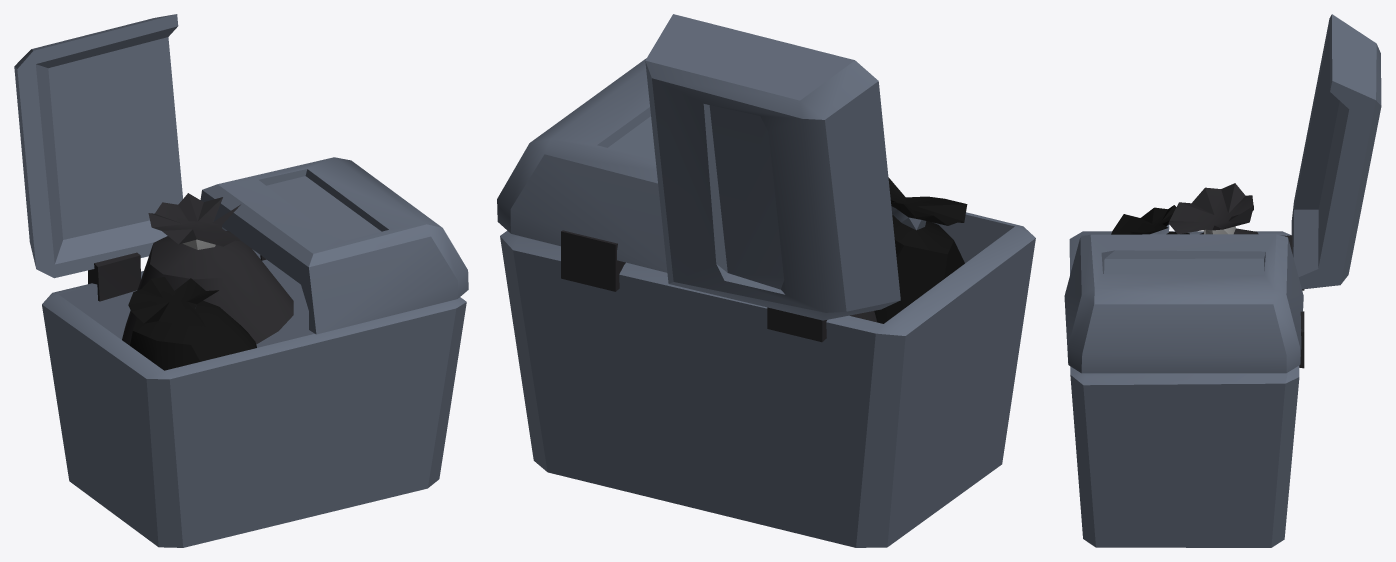
The model's file is Trash Box 1.fbx.
3 views of the same model, side by side, from view 1: azimuth 30°, elevation 25°; view 2: azimuth 150°, elevation 25°; view 3: azimuth 270°, elevation 25° (orthographic). The views are drawn at different scales.
Parts seen in each view (by area): view 1: Trash_Box_01; view 2: Trash_Box_01; view 3: Trash_Box_01.
Part boxes in pixels (bbox=[...]): Trash_Box_01: bbox=[14, 14, 468, 547]; Trash_Box_01: bbox=[497, 14, 1035, 547]; Trash_Box_01: bbox=[1064, 14, 1381, 547].
Bounding box in the file's own units: 99.17 × 120 × 86.33.
